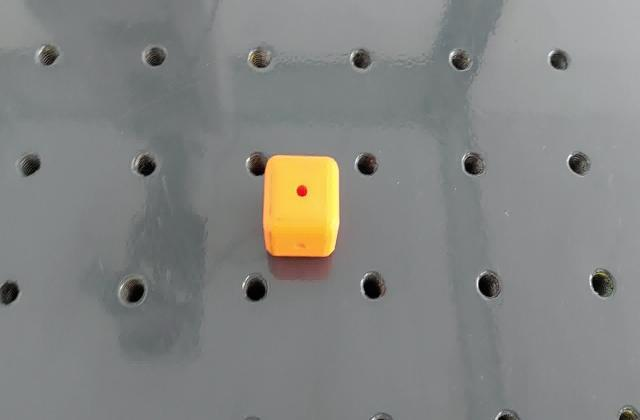cube: (260, 150, 342, 261)
